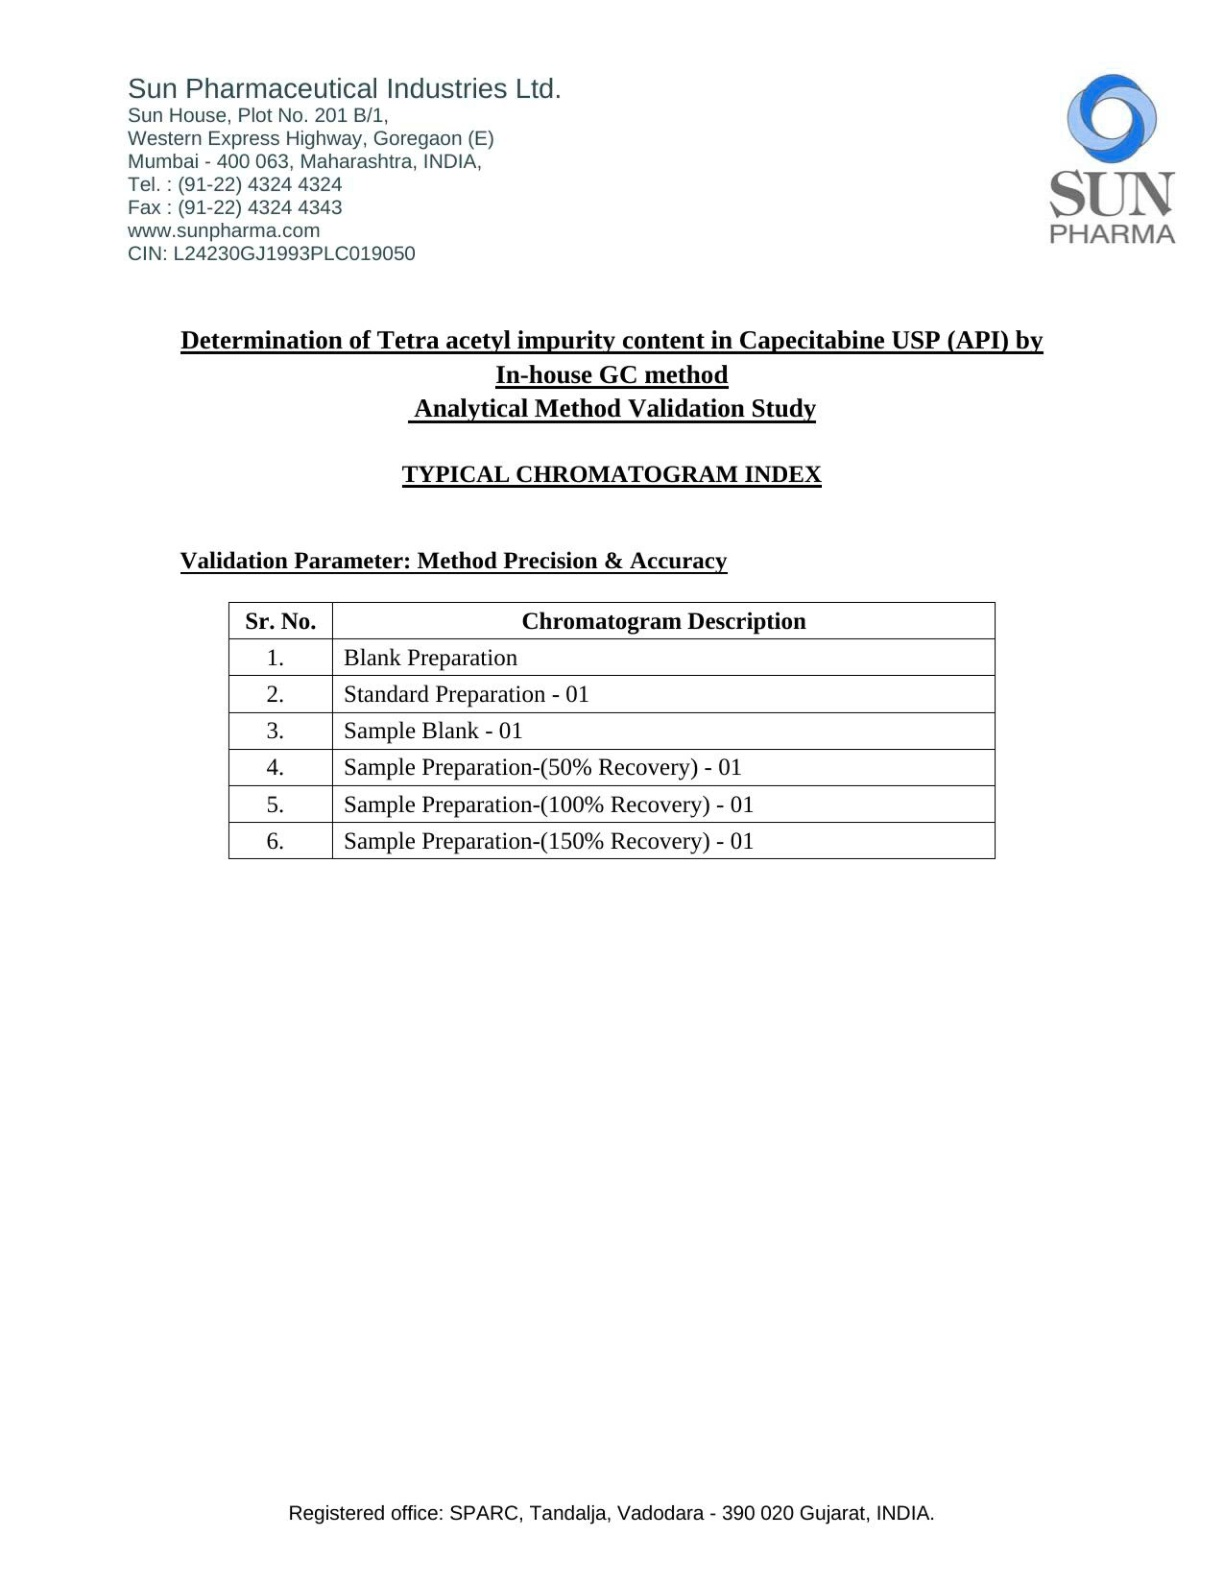full_lined: (228, 600, 998, 861)
